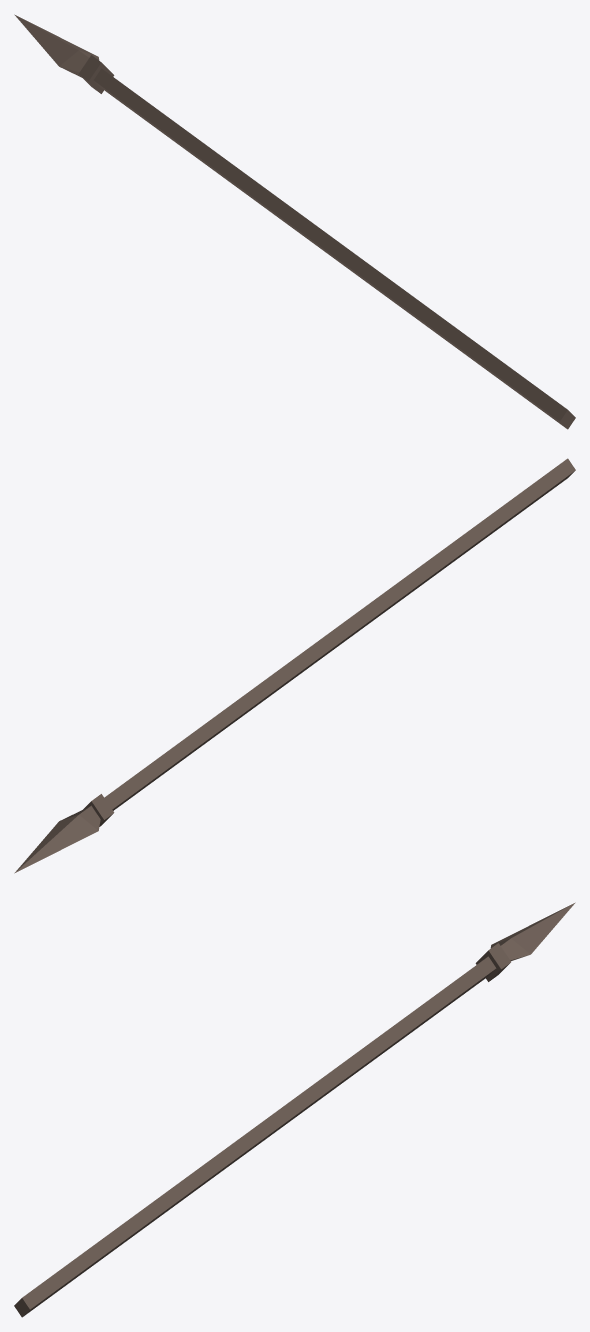
The model's file is Spear.fbx.glb.
3 views of the same model, one above another, from view 1: azimuth 30°, elevation 25°; view 2: azimuth 150°, elevation 25°; view 3: azimuth 330°, elevation 25° (orthographic).
Parts seen in each view (by area): view 1: Spear.1; view 2: Spear.1; view 3: Spear.1.
Boxes of the visible parts, bbox=[...] form: Spear.1: bbox=[14, 14, 575, 429]; Spear.1: bbox=[14, 458, 575, 873]; Spear.1: bbox=[14, 902, 575, 1317].
Bounding box in the file's own units: 6.03 × 4.64 × 146.
